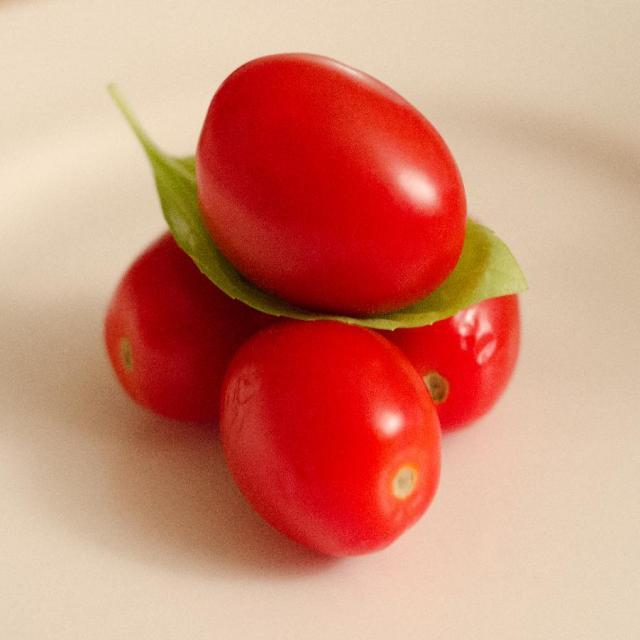Tomato: (195, 49, 469, 315), (198, 311, 444, 557), (110, 227, 298, 431), (380, 289, 524, 427)
